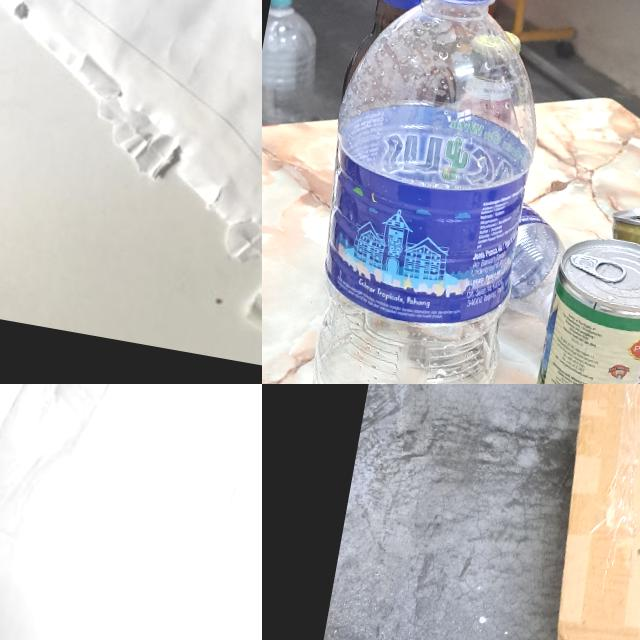aba de lata: (568, 252, 628, 285)
garrafa de vidro: (339, 0, 490, 147)
garrafa plástica: (290, 0, 556, 384), (500, 201, 574, 319), (262, 6, 327, 137)
lata: (524, 230, 640, 384), (605, 200, 640, 280)
papel: (0, 0, 262, 384)
papelão: (526, 384, 640, 640)
sacola plástica: (0, 384, 262, 640)
tampa plástica: (270, 0, 293, 8)
